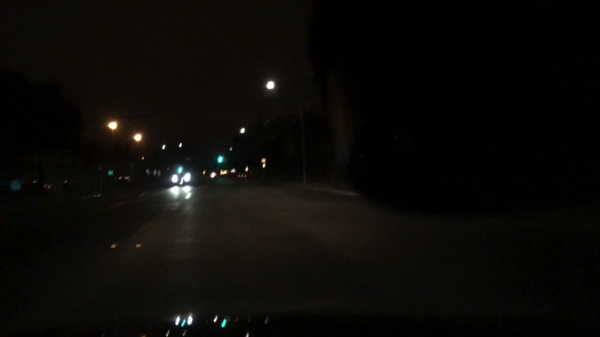car: (169, 169, 196, 184), (235, 170, 248, 180), (207, 172, 216, 180)
traffic light: (216, 155, 223, 163), (107, 168, 114, 176)
